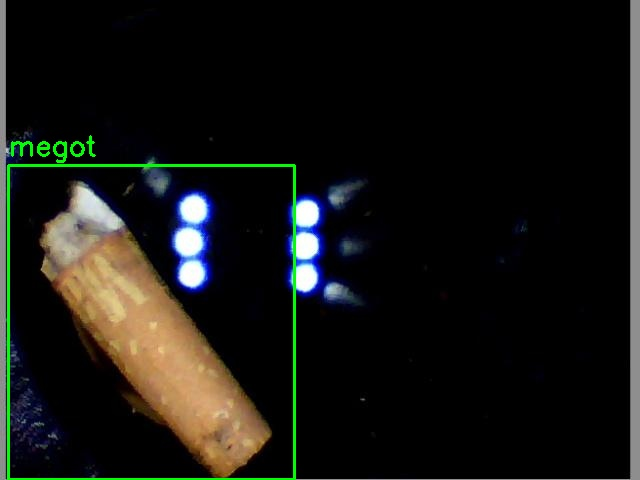megot: (8, 165, 294, 479)
